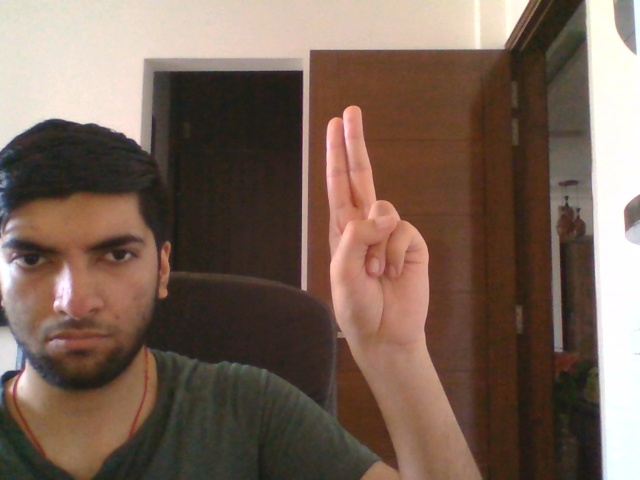LetterU: (324, 100, 432, 352)
